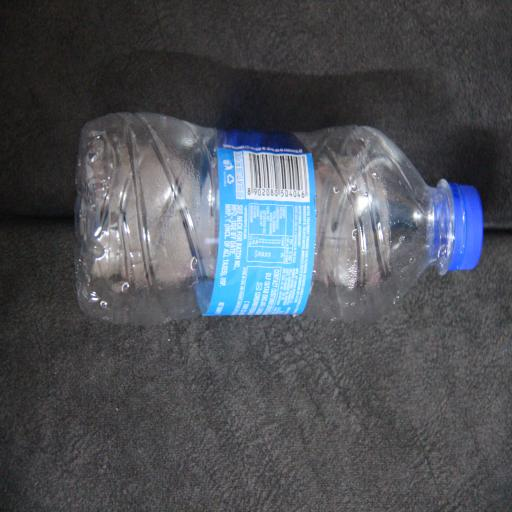Aquafina: (78, 43, 215, 512)
